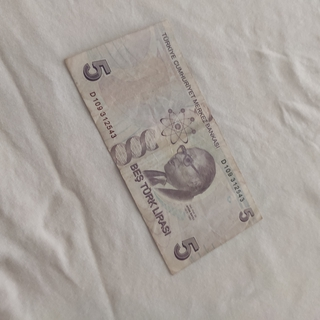5TLBack: (64, 16, 264, 275)
